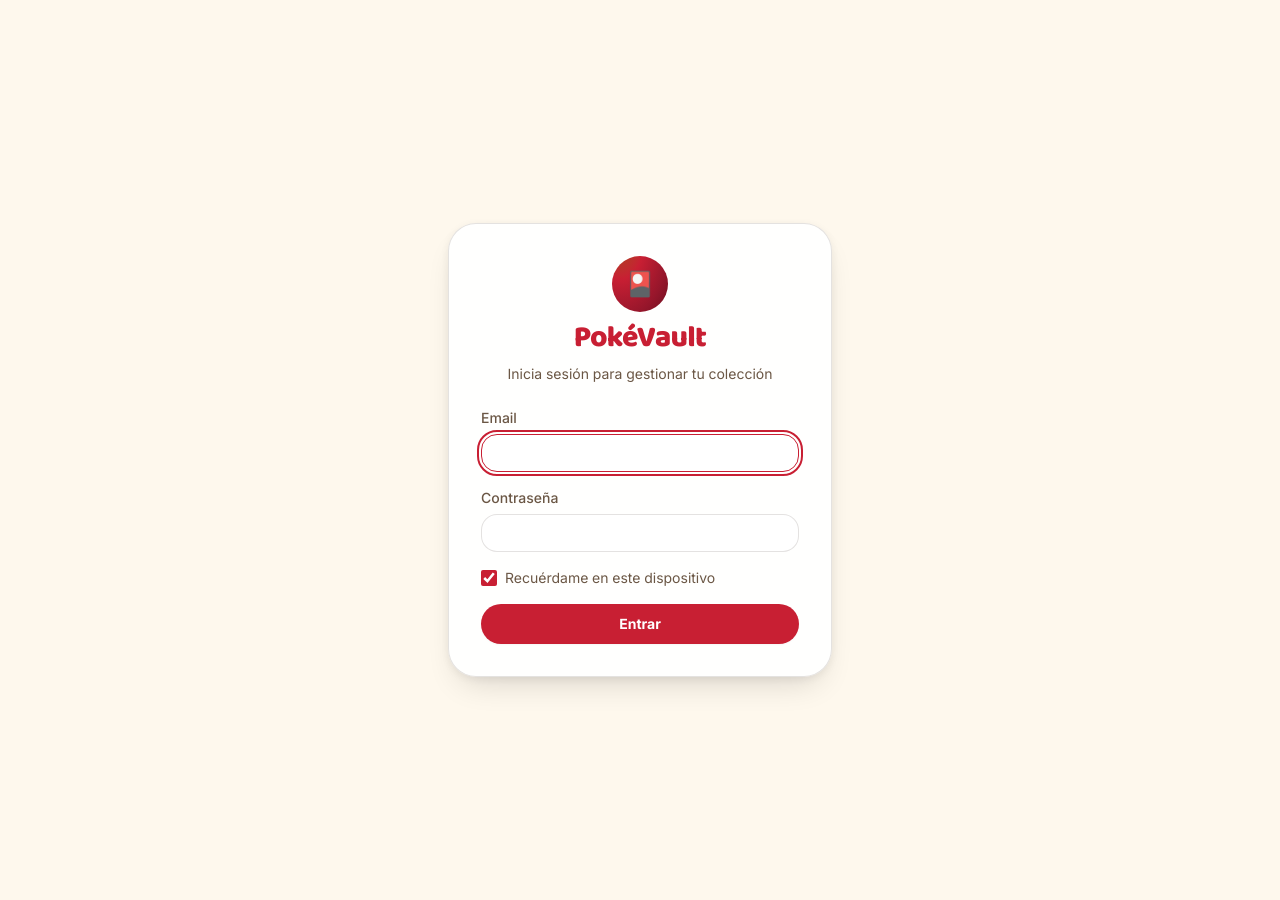
Test: App — puerta de login › el botón de cerrar sesión vuelve a mostrar el login
Type "jadueno@example.com" into the field labelled "Email" at [640, 453], box [481,434,799,472]
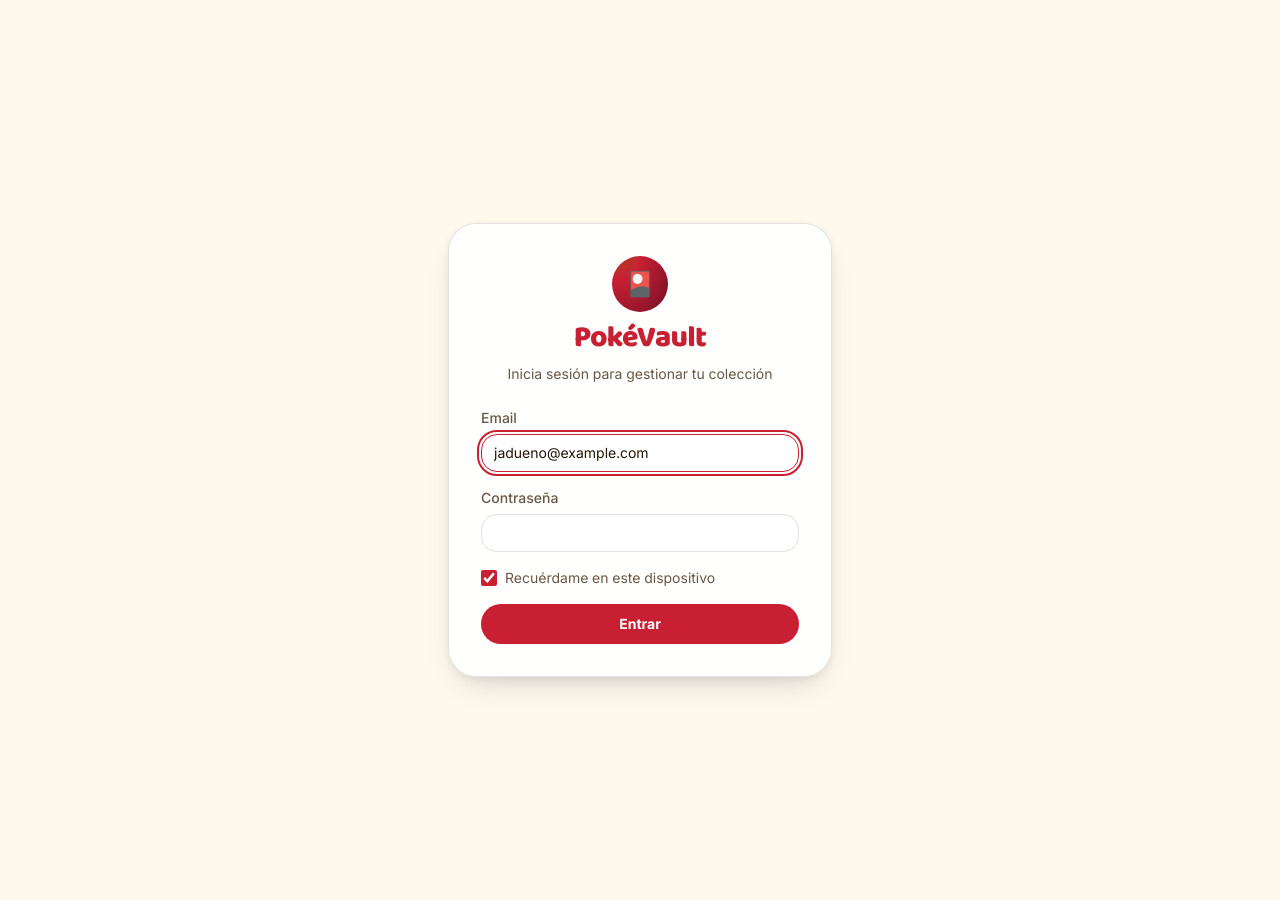
Type "correcta" into the password field labelled "Contraseña" at [640, 533], box [481,514,799,552]
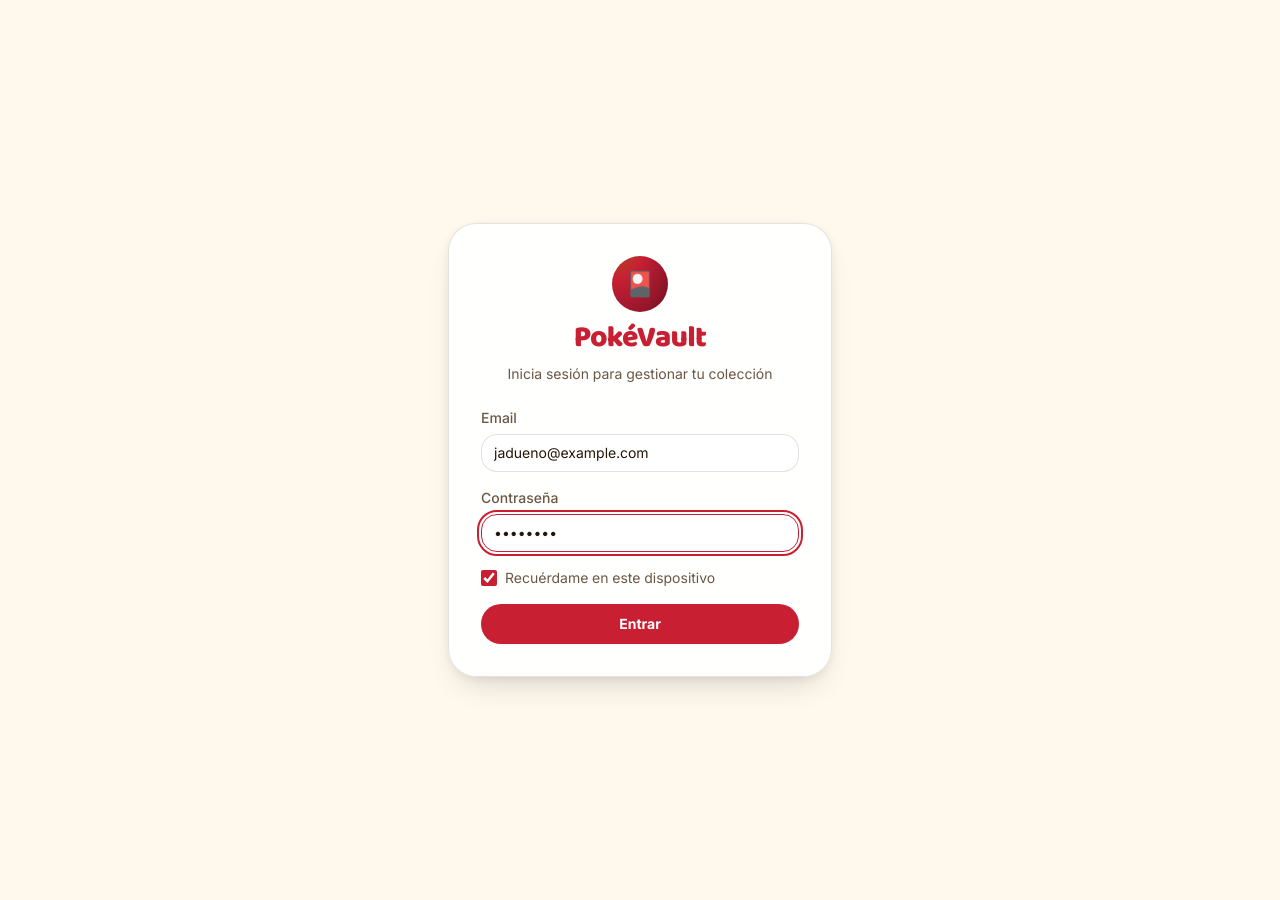
Click the button "Entrar" at [640, 624], box [481,604,799,644]
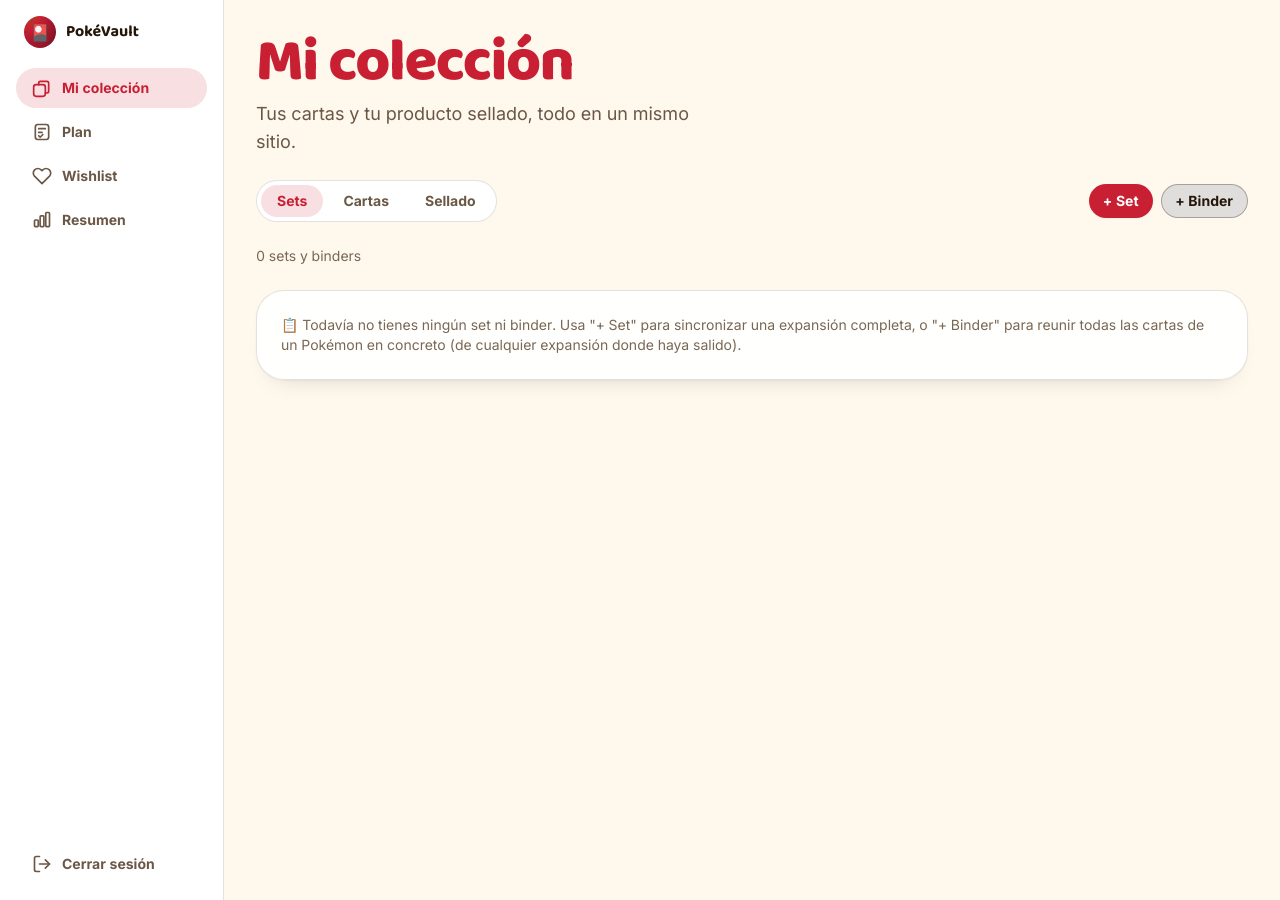
Now the button "+ Set" is shown, box [1089,184,1153,218]
Click the button "Cerrar sesión" at [112, 864], box [16,844,207,884]
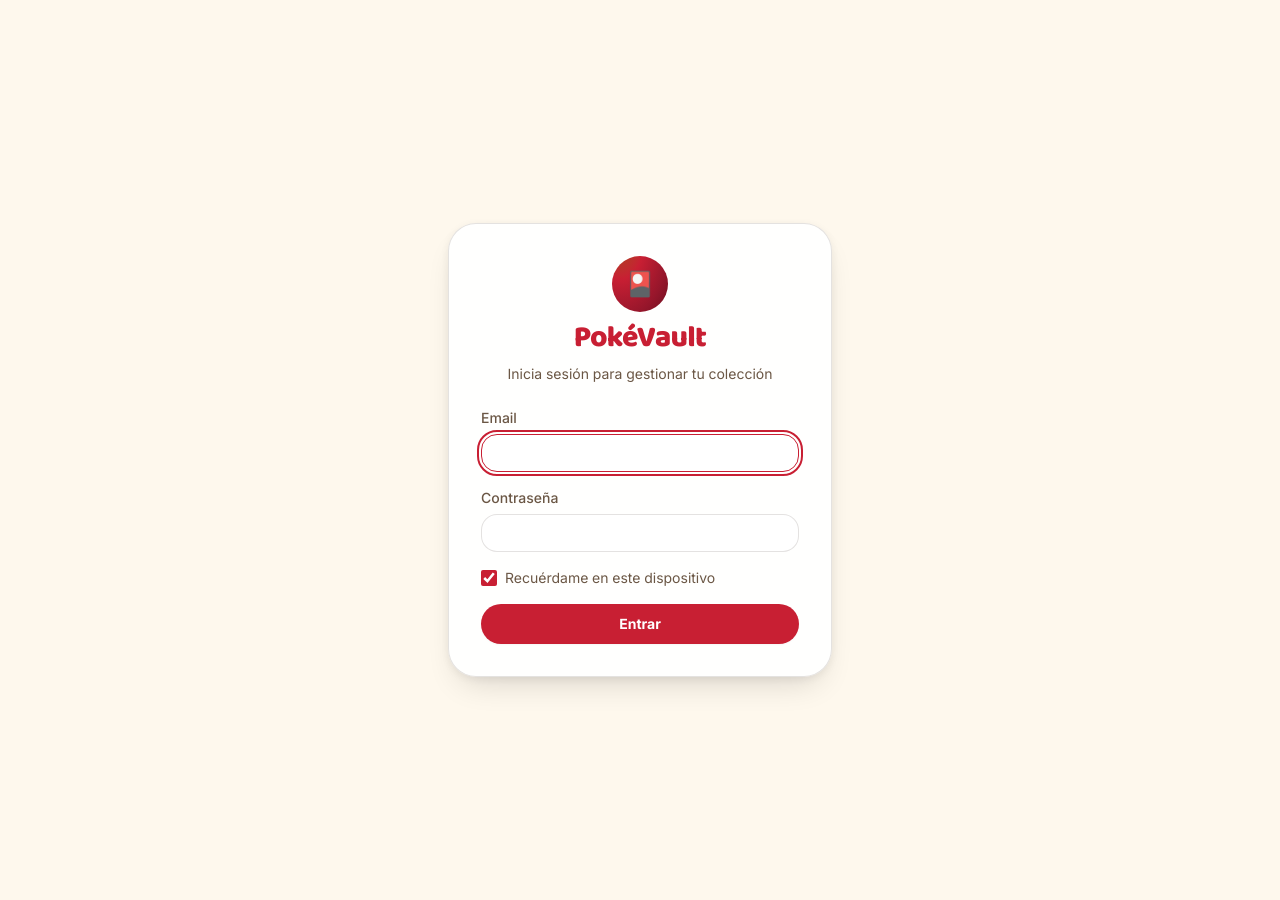
Now the button "Entrar" is shown, box [481,604,799,644]
